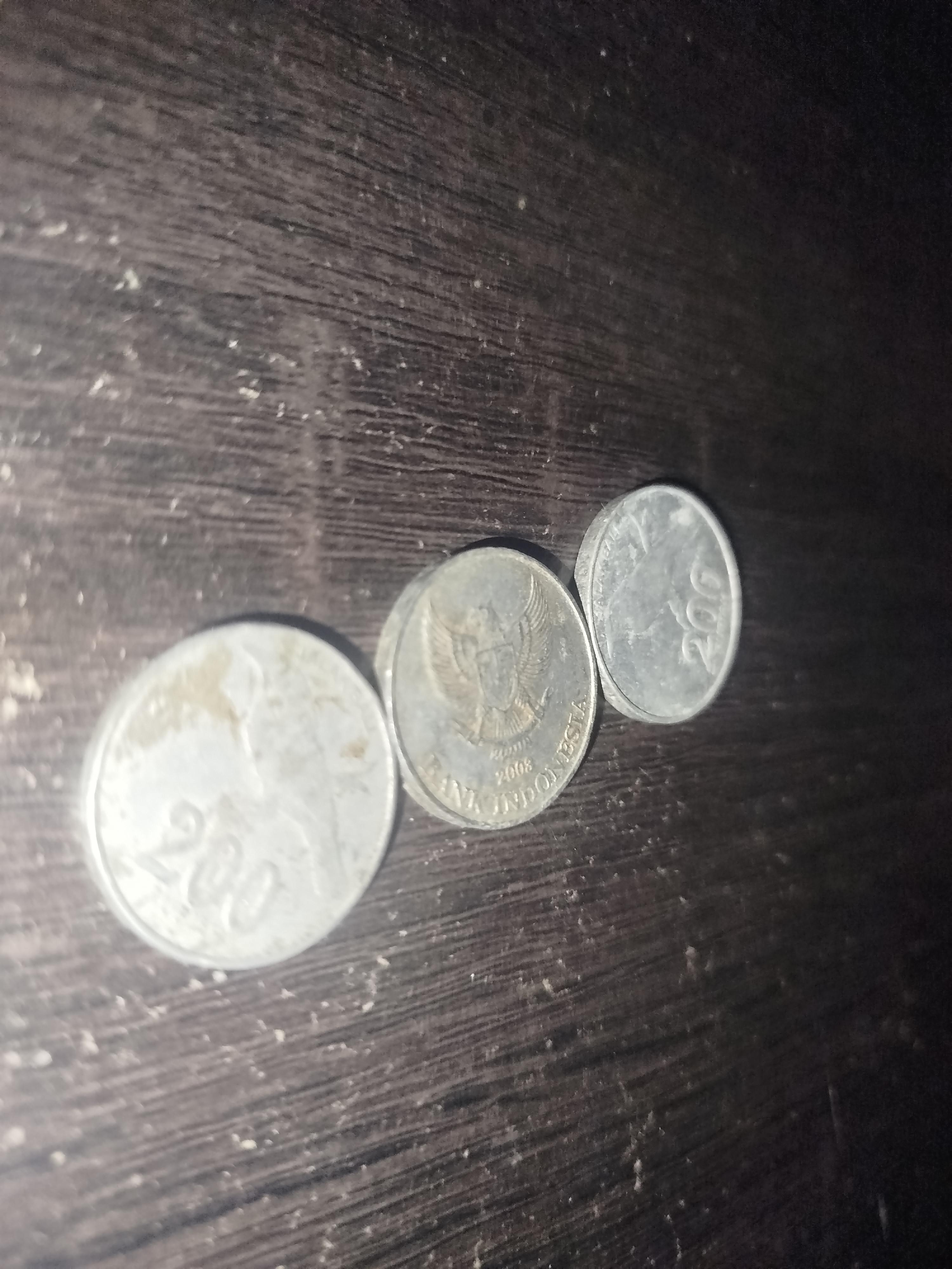coin_200_e2003: (86, 619, 397, 980), (376, 536, 600, 835), (573, 486, 747, 726)
